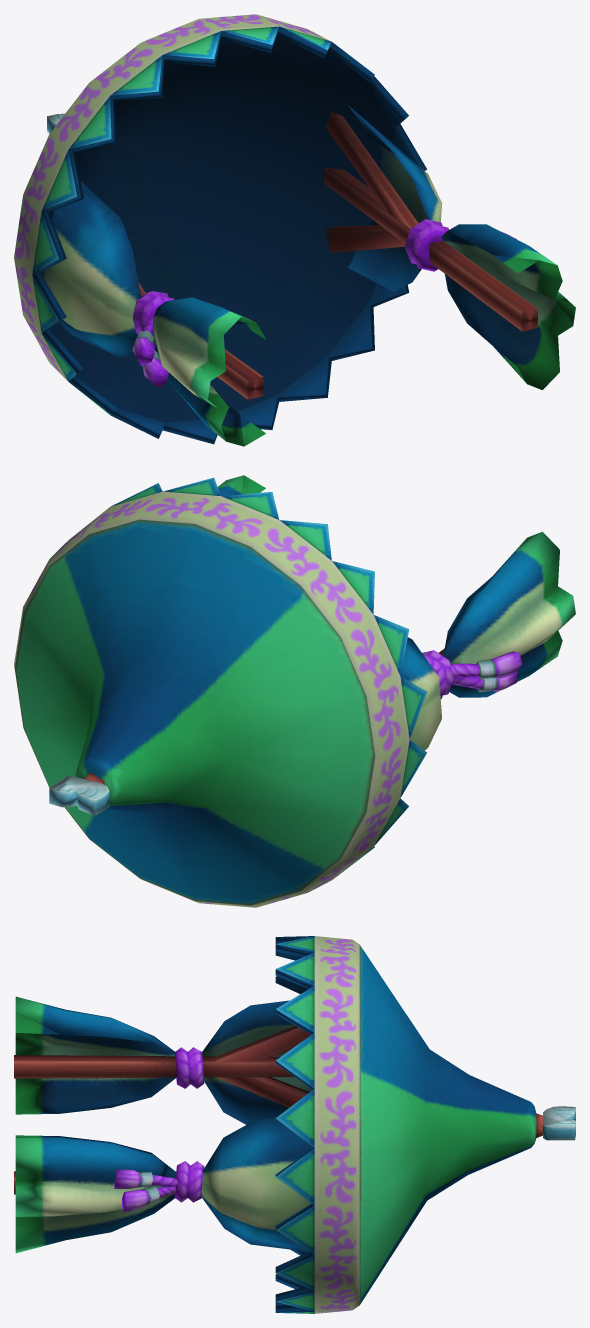
File: MedievalTent.fbx
The picture shows the model from 3 angles, top to bottom: view 1: azimuth 30°, elevation 25°; view 2: azimuth 150°, elevation 25°; view 3: azimuth 270°, elevation 25°; orthographic projection. The views are drawn at different scales.
Parts seen in each view (by area): view 1: MedievalTent; view 2: MedievalTent; view 3: MedievalTent.
Part boxes in pixels (x1,y1,x2,y2): MedievalTent: [14, 14, 575, 446]; MedievalTent: [14, 475, 575, 907]; MedievalTent: [14, 936, 575, 1313].
Bounding box in the file's own units: 150 × 146 × 216.
